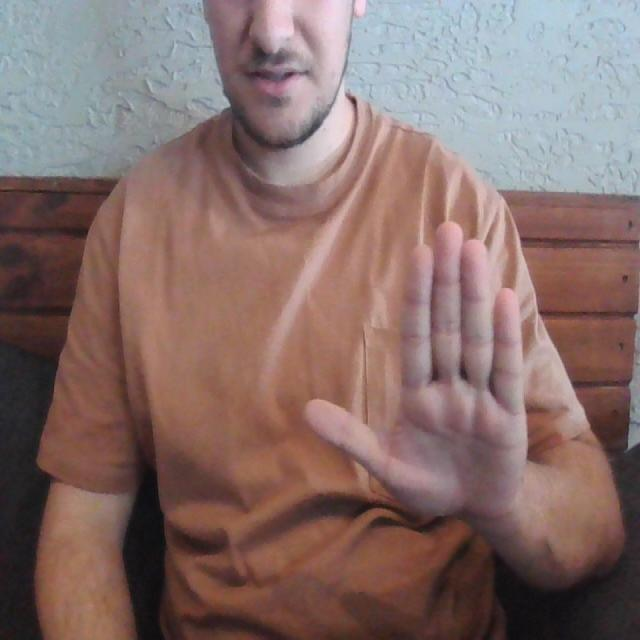Dur: (297, 203, 541, 560)
